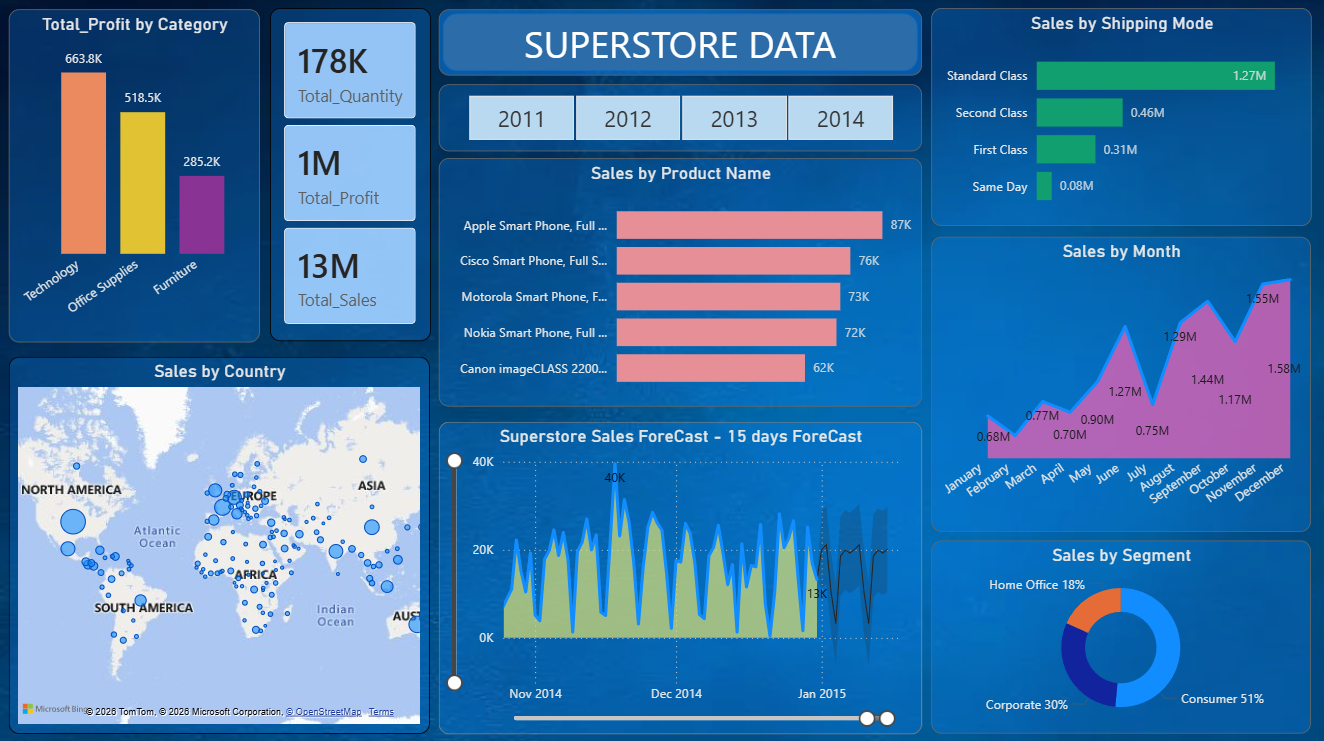

This screenshot's page, from the dashboard's own definition file:
{"tool":"powerbi","page":{"name":"Page 1","canvas":[1280,720],"ordinal":0},"visuals":[{"type":"map","title":"Sales by Country","fields":{"Size":["superstore.Total_Sales"],"Category":["superstore.Country"]},"box":[8.8,346.2,406.2,363.8],"z":0},{"type":"stackedAreaChart","title":"Sales by Month","fields":{"Y":["Sum(superstore.Sales)"],"Category":["superstore.Order.Date.Variation.Date Hierarchy.Month"]},"box":[898.8,230,366.2,285],"z":1000},{"type":"barChart","title":"Sales by Shipping Mode","fields":{"Y":["Sum(superstore.Sales)"],"Category":["superstore.Ship.Mode"]},"box":[898.8,10,367.5,210],"z":2000},{"type":"columnChart","fields":{"Category":["superstore.Category"],"Y":["superstore.Total_Profit"]},"box":[8.8,11.2,242.5,321.2],"z":3000},{"type":"donutChart","title":"Sales by Segment","fields":{"Y":["Sum(superstore.Sales)"],"Category":["superstore.Segment"]},"box":[898.8,523.8,366.2,186.2],"z":4000},{"type":"barChart","title":"Sales by Product Name","fields":{"Category":["superstore.Product.Name"],"Y":["Sum(superstore.Sales)"]},"box":[423.8,155,466.2,240],"z":5000},{"type":"slicer","fields":{"Values":["superstore.Year"]},"box":[423.8,83.8,466.2,65],"z":6000},{"type":"cardVisual","fields":{"Data":["superstore.Total_Quantity","superstore.Total_Profit","superstore.Total_Sales"]},"box":[260,10,155,321.2],"z":7000},{"type":"shape","box":[423.8,11.2,466.2,63.8],"z":8000},{"type":"lineChart","title":"Superstore Sales ForeCast - 15 days ForeCast","fields":{"Y":["Sum(superstore.Sales)"],"Category":["superstore.Order.Date"]},"box":[423.8,408.8,466.2,301.2],"z":9000}]}

Visuals, with their boxes in screenshot pixels (x1, y1, x2, y2), scaled from the page's 1280x720 canvas onto the 1324x741 screenshot:
"Sales by Country" map: 9 356 429 731
"Sales by Month" stackedAreaChart: 930 237 1308 530
"Sales by Shipping Mode" barChart: 930 10 1310 226
columnChart - superstore.Category x superstore.Total_Profit: 9 12 260 342
"Sales by Segment" donutChart: 930 539 1308 731
"Sales by Product Name" barChart: 438 160 921 407
slicer - superstore.Year: 438 86 921 153
cardVisual - superstore.Total_Quantity x superstore.Total_Profit: 269 10 429 341
shape: 438 12 921 77
"Superstore Sales ForeCast - 15 days ForeCast" lineChart: 438 421 921 731
